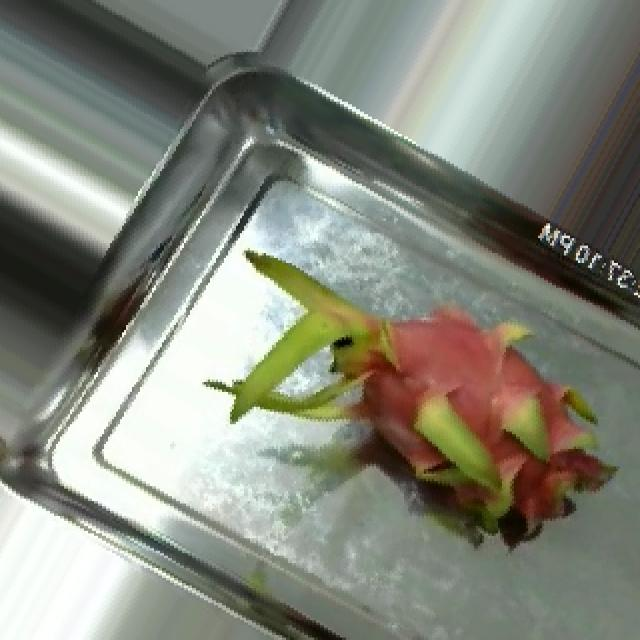fruit: (204, 171, 636, 605)
